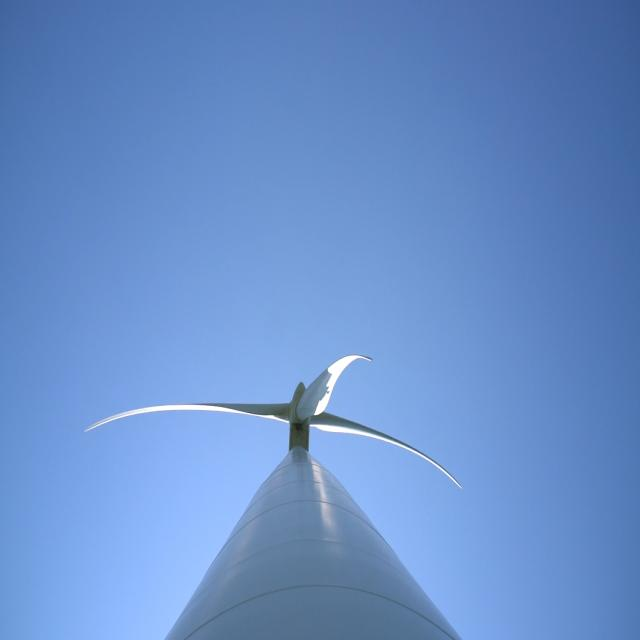blade 1: (34, 382, 279, 438)
blade 2: (356, 350, 544, 409)
blade 3: (349, 418, 444, 509), (368, 348, 376, 349)
